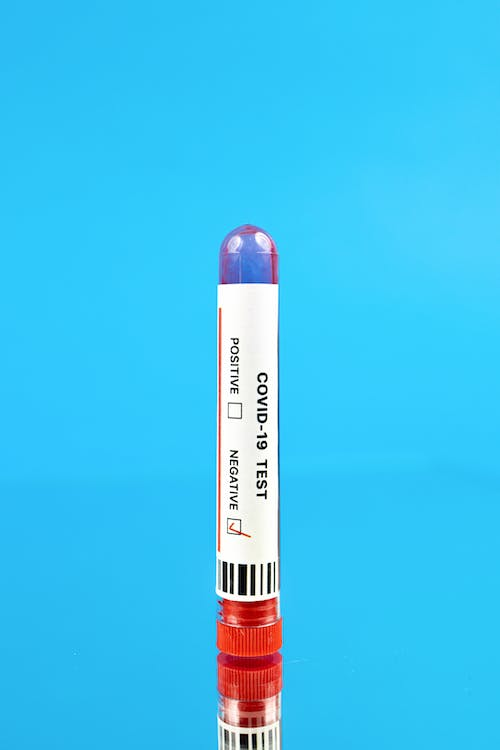blood: (211, 221, 286, 286)
